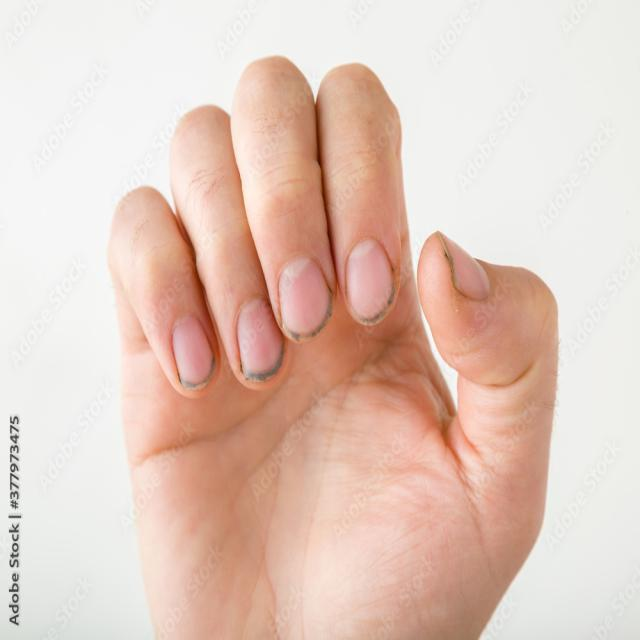Fingernail: (345, 239, 396, 331), (278, 257, 333, 341), (237, 298, 283, 379), (442, 237, 491, 301), (173, 314, 214, 387)
